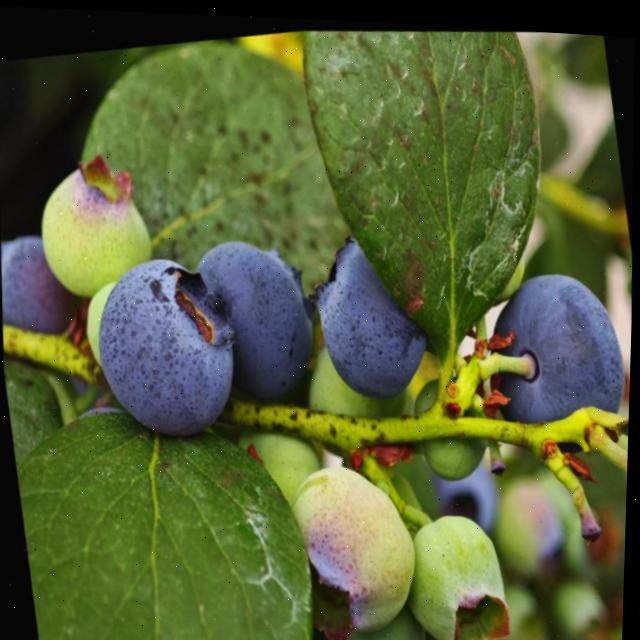RipeBlueBerry: (83, 242, 243, 441), (479, 251, 635, 444)
UnripeBlueBerry: (277, 449, 424, 640), (33, 151, 159, 298), (394, 499, 516, 640)
